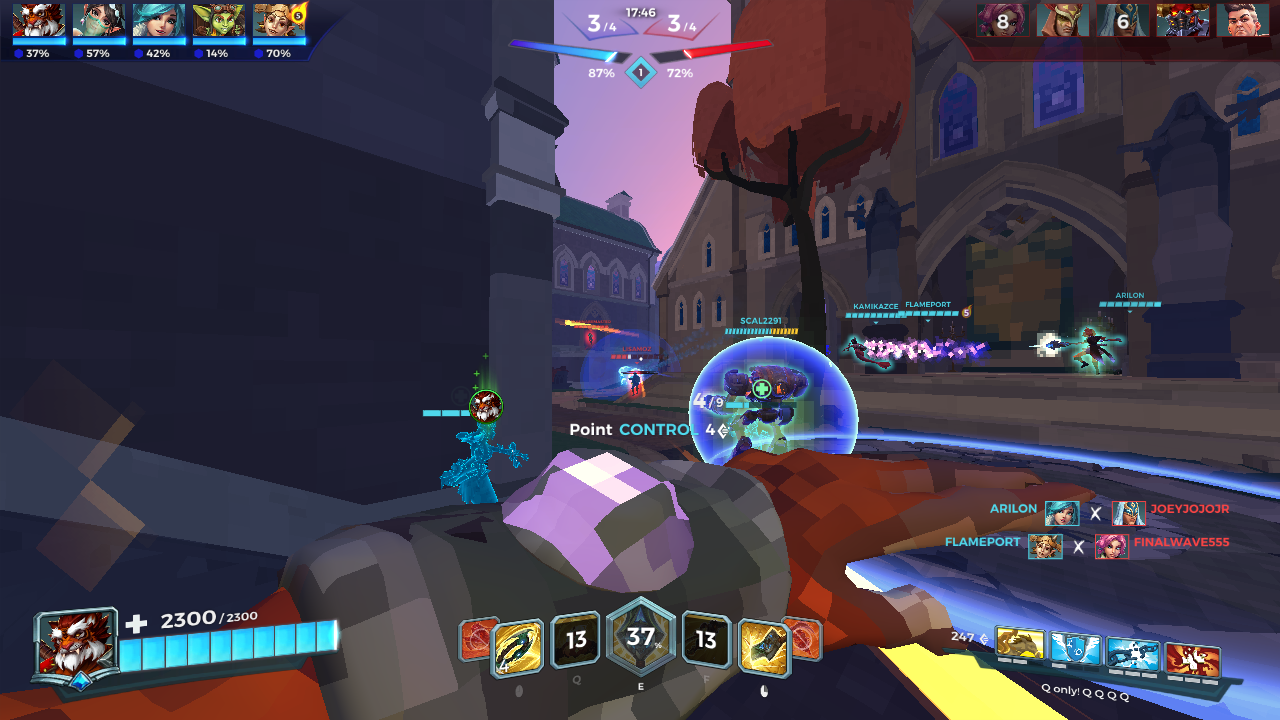model: (624, 365, 646, 399), (580, 326, 599, 350)
